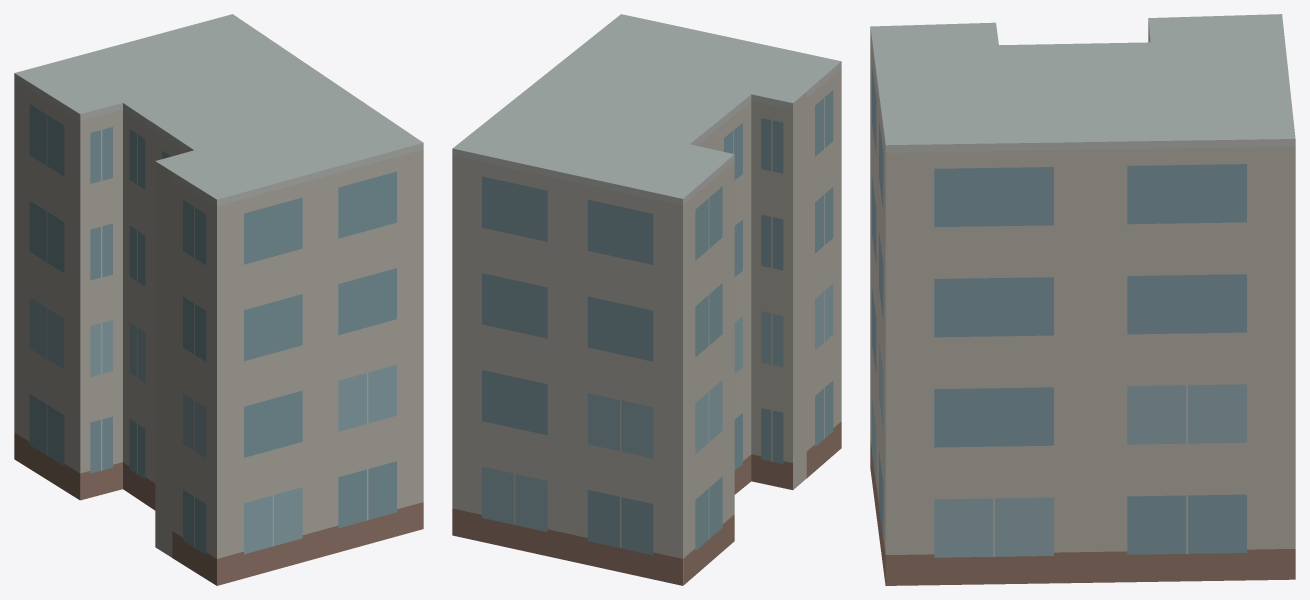
Rendered from survey-upis-32742560.glb.
3 renders of one model, left to right at view 1: azimuth 30°, elevation 25°; view 2: azimuth 150°, elevation 25°; view 3: azimuth 270°, elevation 25°, orthographic. The views are drawn at different scales.
Parts seen in each view (by area): view 1: survey-upis-32742560.tmp; view 2: survey-upis-32742560.tmp; view 3: survey-upis-32742560.tmp.
Part boxes in pixels (x1,y1,x2,y2): survey-upis-32742560.tmp: [14, 14, 423, 585]; survey-upis-32742560.tmp: [452, 14, 841, 585]; survey-upis-32742560.tmp: [870, 14, 1295, 585].
Size of the model in its own units: 9.01 by 14.1 by 12.34.
